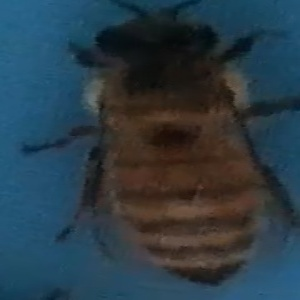bee: (25, 2, 293, 288)
